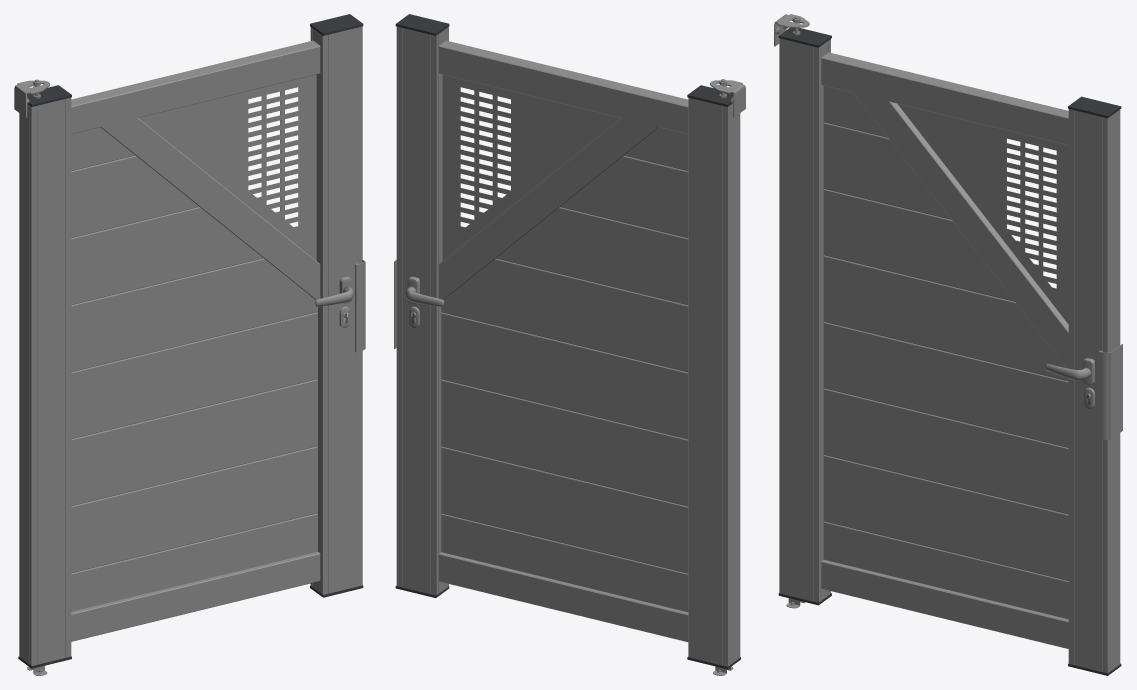
The picture shows the model from 3 angles, left to right: view 1: azimuth 30°, elevation 25°; view 2: azimuth 150°, elevation 25°; view 3: azimuth 330°, elevation 25°; orthographic projection.
Visible parts, largest first — view 1: Shape107411760, Shape107412643, Shape107412644, mailleRectangulaire, Shape107411754, Shape107412684, Shape107411755, Shape107412637, Box2403, Rectangle057, Box2401; view 2: Shape107411760, Shape107412643, Shape107412644, mailleRectangulaire, Shape107411754, Shape107412684, Shape107411755, Box2403, Rectangle057, Box2401; view 3: Shape107411760, Shape107412644, Shape107412643, mailleRectangulaire, Shape107412684, Shape107411754, Shape107411755, Shape107412637, Box2403, Box2401.
Part boxes in pixels (bbox=[...]): Shape107411760: bbox=[71, 127, 317, 611]; Shape107412643: bbox=[19, 97, 71, 665]; Shape107412644: bbox=[310, 26, 362, 594]; mailleRectangulaire: bbox=[139, 74, 316, 260]; Shape107411754: bbox=[71, 40, 320, 134]; Shape107412684: bbox=[100, 118, 320, 299]; Shape107411755: bbox=[71, 551, 320, 641]; Shape107412637: bbox=[355, 260, 365, 352]; Box2403: bbox=[310, 14, 363, 35]; Rectangle057: bbox=[14, 80, 50, 117]; Box2401: bbox=[26, 85, 71, 106]; Shape107411760: bbox=[441, 127, 688, 612]; Shape107412643: bbox=[688, 97, 740, 666]; Shape107412644: bbox=[396, 26, 448, 595]; mailleRectangulaire: bbox=[442, 74, 620, 260]; Shape107411754: bbox=[438, 40, 688, 134]; Shape107412684: bbox=[438, 118, 658, 300]; Shape107411755: bbox=[438, 552, 688, 642]; Box2403: bbox=[395, 14, 449, 35]; Rectangle057: bbox=[710, 80, 745, 117]; Box2401: bbox=[687, 85, 733, 106]; Shape107411760: bbox=[823, 86, 1068, 619]; Shape107412644: bbox=[1068, 109, 1120, 672]; Shape107412643: bbox=[779, 38, 830, 602]; mailleRectangulaire: bbox=[897, 103, 1068, 324]; Shape107412684: bbox=[853, 92, 1068, 368]; Shape107411754: bbox=[821, 52, 1068, 145]; Shape107411755: bbox=[821, 559, 1068, 648]; Shape107412637: bbox=[1098, 344, 1122, 439]; Box2403: bbox=[1068, 96, 1121, 118]; Box2401: bbox=[778, 27, 831, 47].
Size of the model in its own units: 1014 by 1688 by 171.
8 materials, 4 textured.
